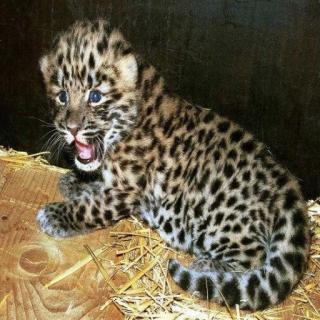Leopard: (51, 9, 307, 307)
